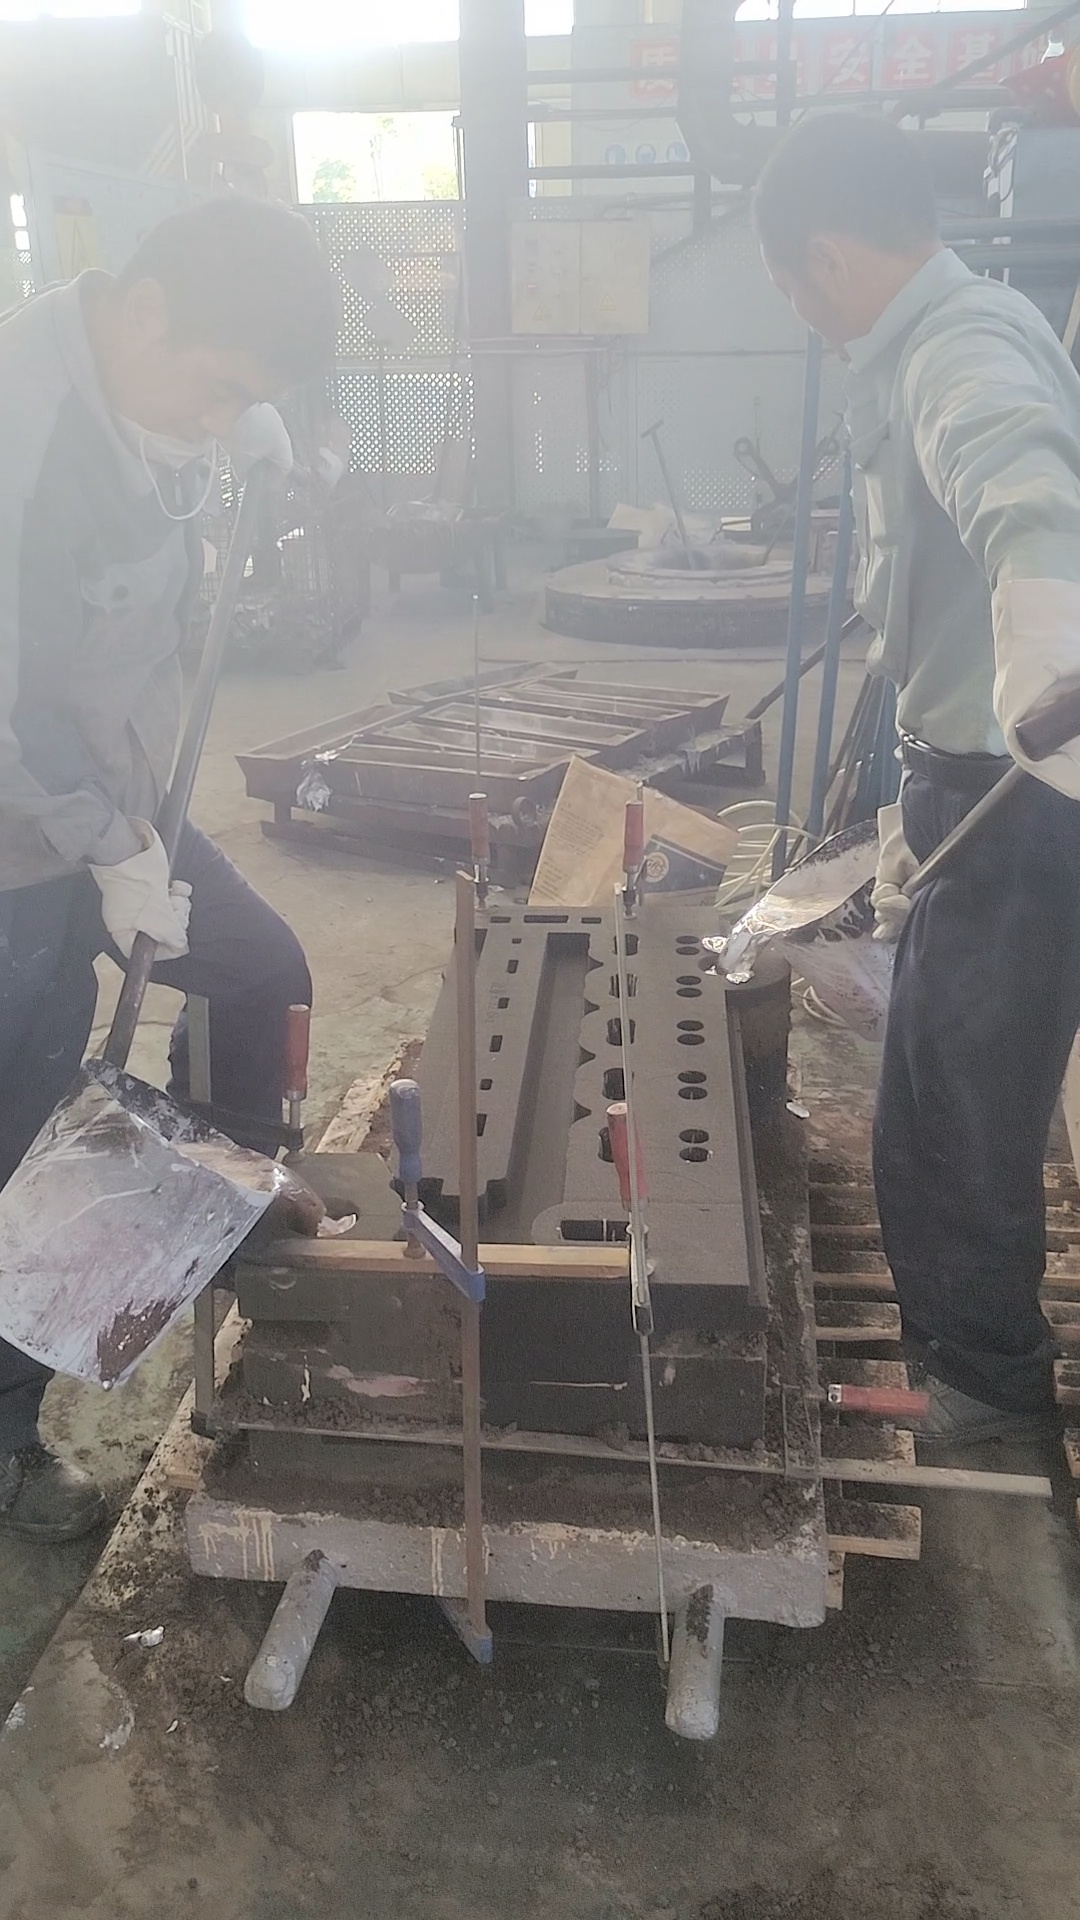pouring hole: (284, 1196, 360, 1236), (698, 953, 754, 977)
